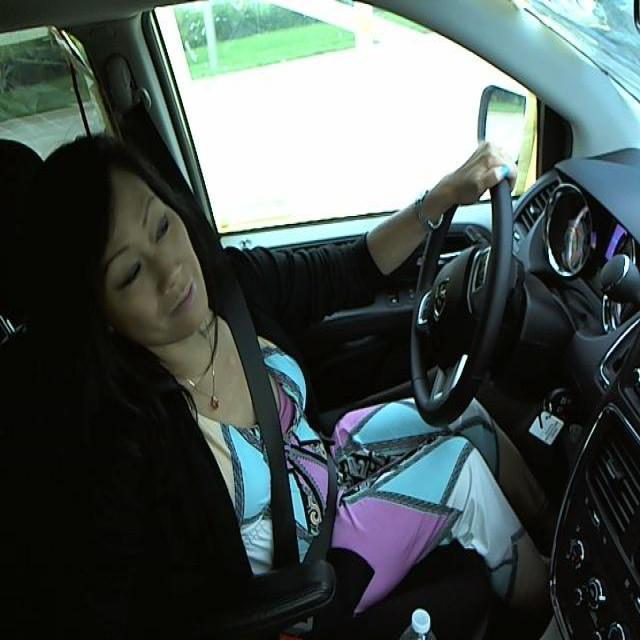seatbelt: (228, 313, 343, 567)
